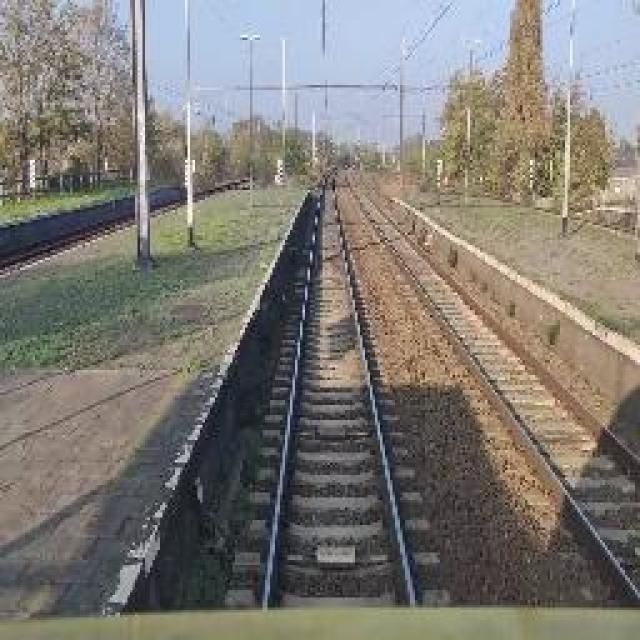rail: (344, 169, 640, 611), (218, 168, 454, 612)
